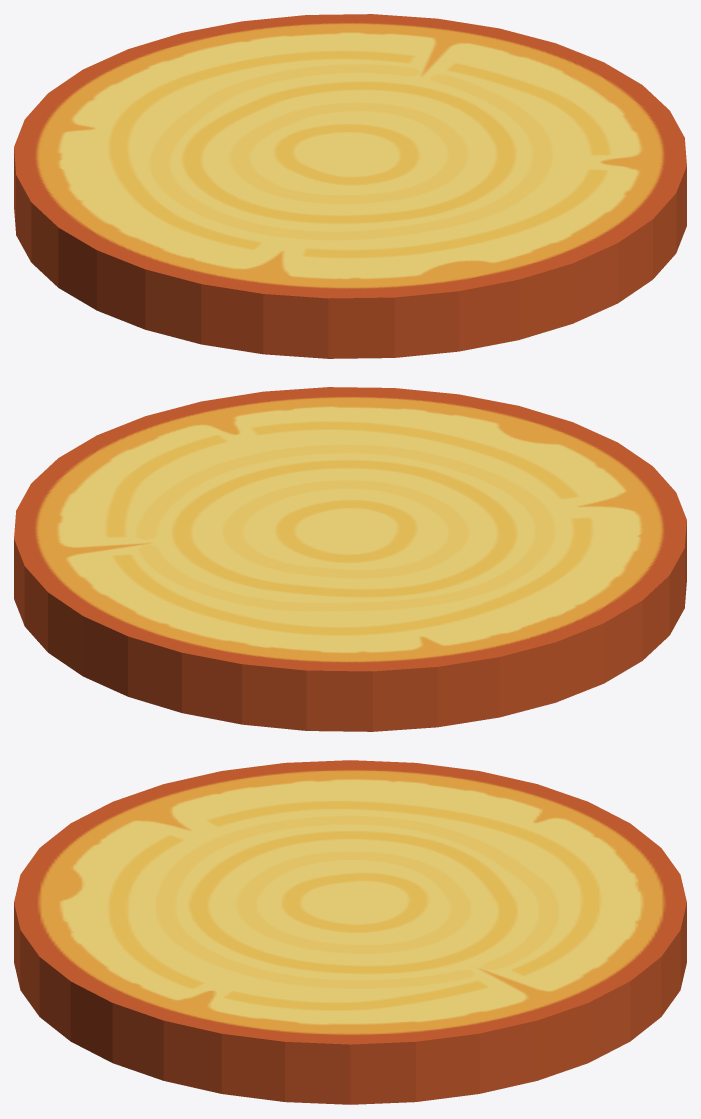
File: Wood0.fbx
The picture shows the model from 3 angles, top to bottom: view 1: azimuth 30°, elevation 25°; view 2: azimuth 150°, elevation 25°; view 3: azimuth 270°, elevation 25°; orthographic projection.
Parts seen in each view (by area): view 1: Cylinder, Cylinder_cell.002, Cylinder_cell; view 2: Cylinder, Cylinder_cell.002, Cylinder_cell; view 3: Cylinder, Cylinder_cell.002, Cylinder_cell.
Part boxes in pixels (bbox=[...]): Cylinder: bbox=[15, 14, 686, 358]; Cylinder_cell.002: bbox=[49, 14, 620, 150]; Cylinder_cell: bbox=[14, 94, 620, 358]; Cylinder: bbox=[14, 387, 686, 731]; Cylinder_cell.002: bbox=[14, 422, 371, 731]; Cylinder_cell: bbox=[357, 417, 686, 731]; Cylinder: bbox=[14, 760, 686, 1104]; Cylinder_cell.002: bbox=[210, 823, 686, 1104]; Cylinder_cell: bbox=[40, 760, 627, 1018].
Size of the model in its own units: 99.25 by 9.81 by 99.25.
